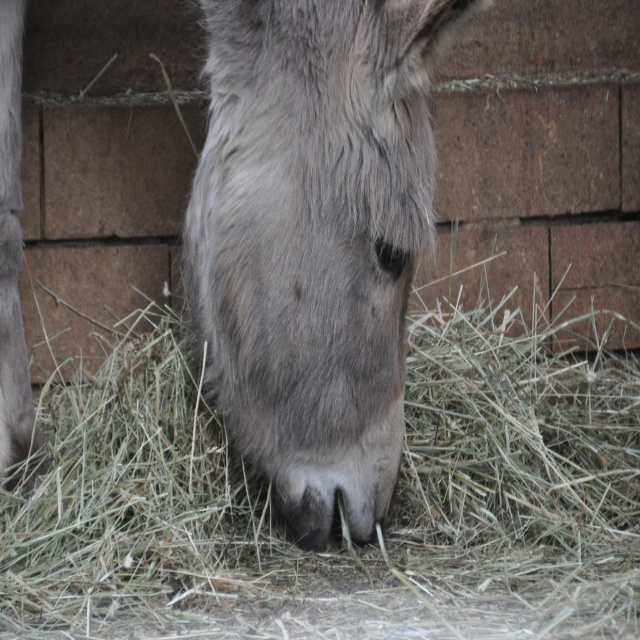Horse: (0, 0, 495, 555)
